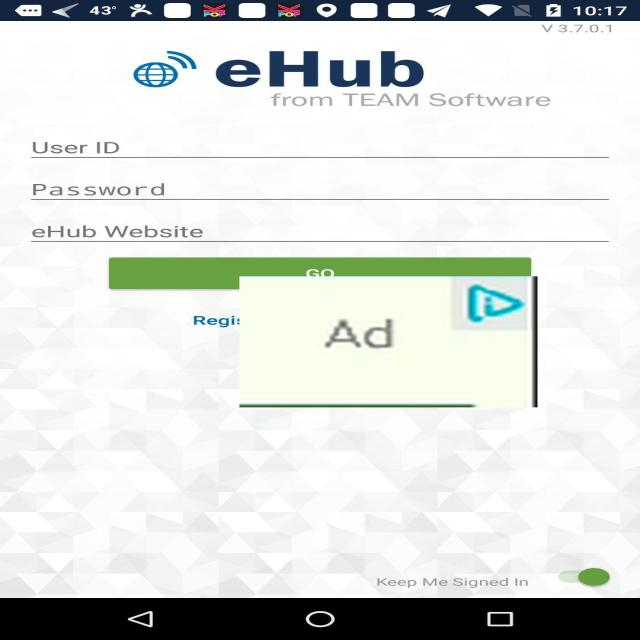sneaking: (240, 276, 538, 408)
